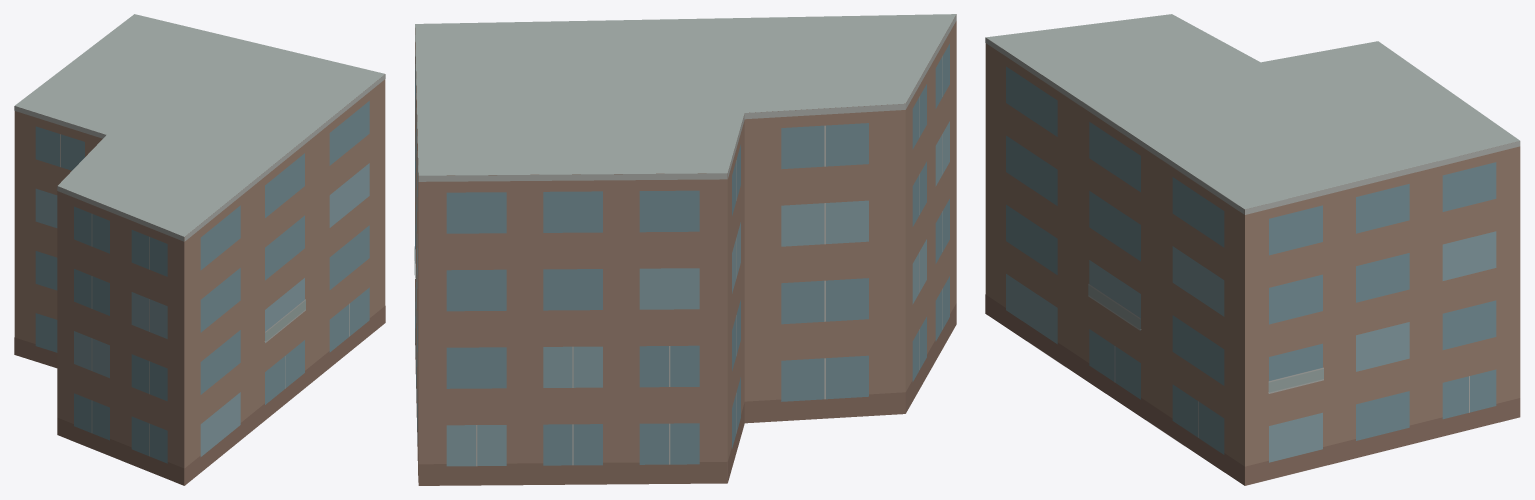
The model's file is residential-8e1fdece-efec-4f6a-967b-027f8d90bbc8.glb.
3 renders of one model, left to right at view 1: azimuth 30°, elevation 25°; view 2: azimuth 150°, elevation 25°; view 3: azimuth 270°, elevation 25°, orthographic. The views are drawn at different scales.
Parts seen in each view (by area): view 1: residential-8e1fdece-efec-4f6a-967b-027f8d90bbc8.tmp; view 2: residential-8e1fdece-efec-4f6a-967b-027f8d90bbc8.tmp; view 3: residential-8e1fdece-efec-4f6a-967b-027f8d90bbc8.tmp.
Boxes of the visible parts, x1,y1,x2,y2 form: residential-8e1fdece-efec-4f6a-967b-027f8d90bbc8.tmp: (14,14,385,485); residential-8e1fdece-efec-4f6a-967b-027f8d90bbc8.tmp: (414,14,956,485); residential-8e1fdece-efec-4f6a-967b-027f8d90bbc8.tmp: (985,14,1520,485).
Size of the model in its own units: 18.52 by 12.2 by 21.41.
